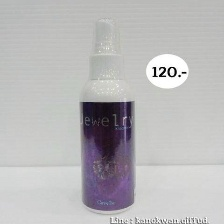cleaning_solution: (75, 14, 138, 216)
